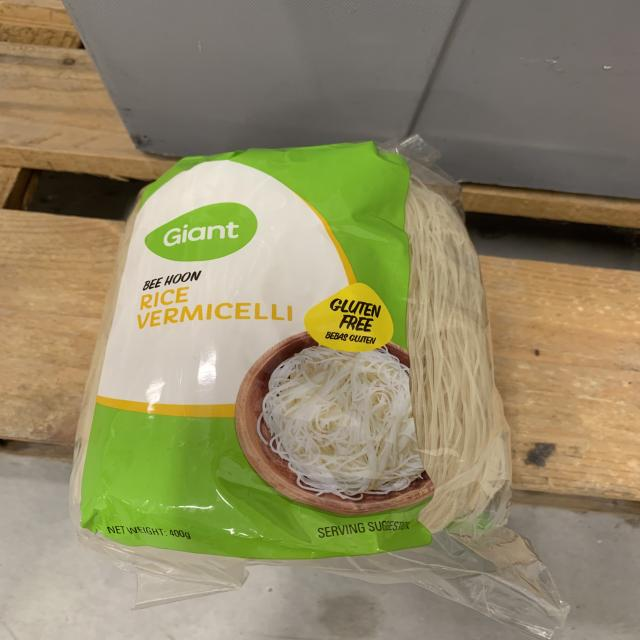object_name: (125, 167, 485, 568)
